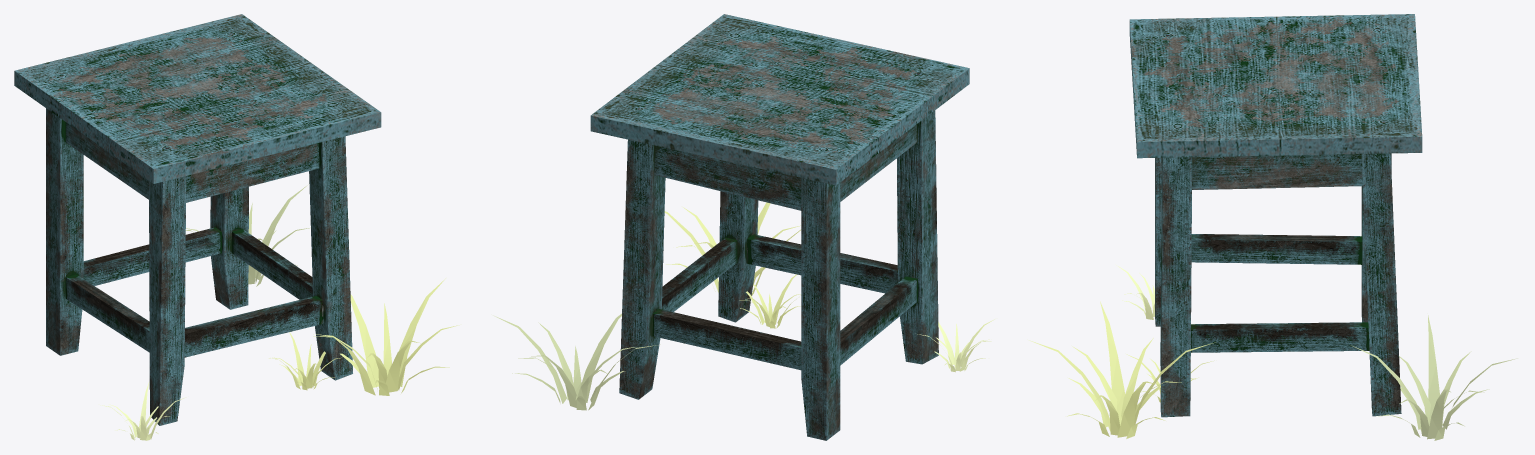
Rendered from chair.glb.
The picture shows the model from 3 angles, left to right: view 1: azimuth 30°, elevation 25°; view 2: azimuth 150°, elevation 25°; view 3: azimuth 270°, elevation 25°; orthographic projection. The views are drawn at different scales.
Parts seen in each view (by area): view 1: Stool_Stool_0, grass.001, grass.016, grass.002, grass.003; view 2: Stool_Stool_0, grass.003, grass.001, grass.002, grass.016; view 3: Stool_Stool_0, grass.001, grass.003.
Part boxes in pixels (<box>): Stool_Stool_0: <box>14,14,381,425</box>; grass.001: <box>313,278,459,395</box>; grass.016: <box>269,332,341,390</box>; grass.002: <box>100,382,186,440</box>; grass.003: <box>185,184,310,286</box>; Stool_Stool_0: <box>590,14,969,440</box>; grass.003: <box>493,313,660,410</box>; grass.001: <box>664,202,801,295</box>; grass.002: <box>917,319,994,372</box>; grass.016: <box>739,274,800,328</box>; Stool_Stool_0: <box>1129,14,1422,417</box>; grass.001: <box>1029,301,1215,438</box>; grass.003: <box>1351,315,1517,440</box>.
Size of the model in its own units: 0.5557 by 0.4299 by 0.6443.
Materials: 4 (1 with a texture image).
